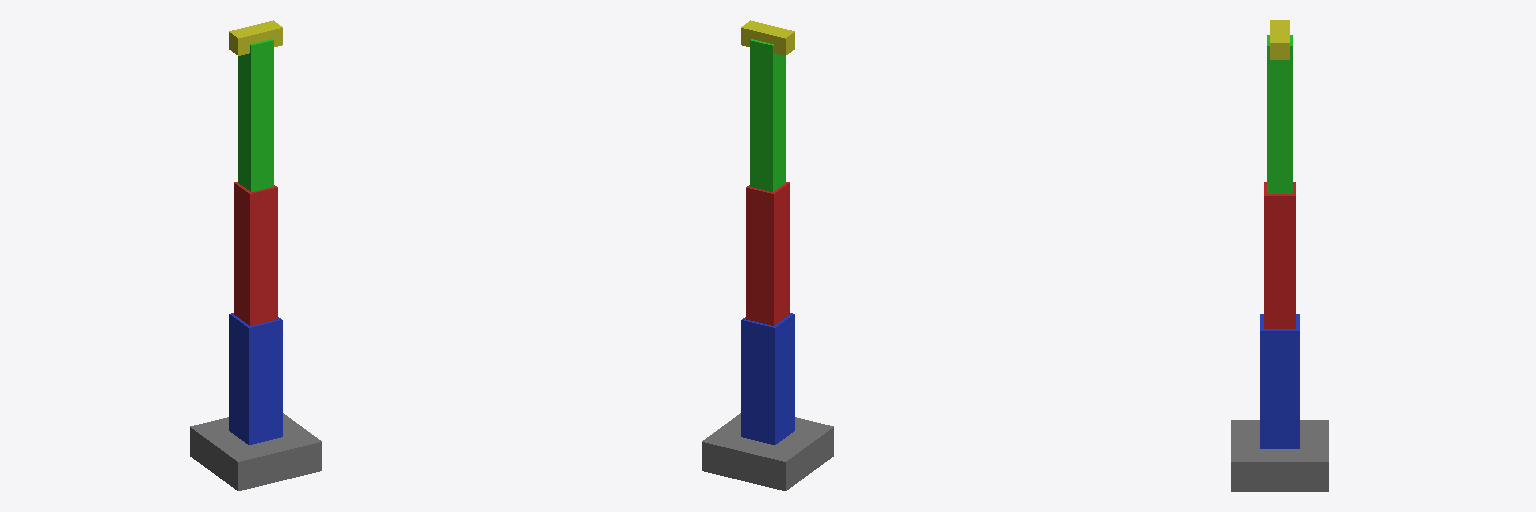
URDF robot description (simple_arm):
<?xml version="1.0"?>
<robot name="simple_arm">
  <link name="base_link">
    <visual>
      <geometry><box size="0.15 0.15 0.05"/></geometry>
      <material name="gray"><color rgba="0.5 0.5 0.5 1"/></material>
    </visual>
  </link>
  <link name="shoulder_link">
    <visual>
      <geometry><box size="0.06 0.06 0.20"/></geometry>
      <origin rpy="0 0 0" xyz="0 0 0.10"/>
      <material name="blue"><color rgba="0.2 0.3 0.8 1"/></material>
    </visual>
  </link>
  <link name="upper_arm_link">
    <visual>
      <geometry><box size="0.05 0.05 0.25"/></geometry>
      <origin rpy="0 0 0" xyz="0 0 0.125"/>
      <material name="red"><color rgba="0.8 0.2 0.2 1"/></material>
    </visual>
  </link>
  <link name="forearm_link">
    <visual>
      <geometry><box size="0.04 0.04 0.25"/></geometry>
      <origin rpy="0 0 0" xyz="0 0 0.125"/>
      <material name="green"><color rgba="0.2 0.8 0.2 1"/></material>
    </visual>
  </link>
  <link name="gripper_link">
    <visual>
      <geometry><box size="0.08 0.03 0.03"/></geometry>
      <origin rpy="0 0 0" xyz="0 0 0"/>
      <material name="yellow"><color rgba="0.8 0.8 0.2 1"/></material>
    </visual>
  </link>
  <joint name="base_joint" type="revolute">
    <parent link="base_link"/><child link="shoulder_link"/>
    <origin rpy="0 0 0" xyz="0 0 0.025"/>
    <axis xyz="0 0 1"/>
    <limit lower="-3.14" upper="3.14" effort="1" velocity="1"/>
  </joint>
  <joint name="shoulder_joint" type="revolute">
    <parent link="shoulder_link"/><child link="upper_arm_link"/>
    <origin rpy="0 0 0" xyz="0 0 0.175"/>
    <axis xyz="0 1 0"/>
    <limit lower="-2.0" upper="2.0" effort="1" velocity="1"/>
  </joint>
  <joint name="elbow_joint" type="revolute">
    <parent link="upper_arm_link"/><child link="forearm_link"/>
    <origin rpy="0 0 0" xyz="0 0 0.25"/>
    <axis xyz="0 1 0"/>
    <limit lower="-2.0" upper="2.0" effort="1" velocity="1"/>
  </joint>
  <joint name="gripper_joint" type="prismatic">
    <parent link="forearm_link"/><child link="gripper_link"/>
    <origin rpy="0 0 0" xyz="0 0 0.25"/>
    <axis xyz="0 1 0"/>
    <limit lower="0.0" upper="0.05" effort="0.5" velocity="0.5"/>
  </joint>
</robot>

--- Render facts (derived) ---
3 views of the same robot in one strip: view 1: azimuth 30°, elevation 25°; view 2: azimuth 150°, elevation 25°; view 3: azimuth 270°, elevation 25° (orthographic).
Robot: simple_arm — 5 links, 4 joints (3 revolute, 1 prismatic); root link base_link; default pose: every joint at zero.
Visible links, largest first — view 1: shoulder_link, base_link, upper_arm_link, forearm_link, gripper_link; view 2: shoulder_link, base_link, upper_arm_link, forearm_link, gripper_link; view 3: base_link, shoulder_link, upper_arm_link, forearm_link, gripper_link.
Link boxes in pixels (<box>): shoulder_link: <box>229,313,282,444</box>; base_link: <box>190,413,321,490</box>; upper_arm_link: <box>234,182,277,325</box>; forearm_link: <box>238,39,273,191</box>; gripper_link: <box>229,20,282,55</box>; shoulder_link: <box>741,313,794,444</box>; base_link: <box>702,413,833,490</box>; upper_arm_link: <box>746,182,789,325</box>; forearm_link: <box>750,39,785,191</box>; gripper_link: <box>741,20,794,55</box>; base_link: <box>1231,420,1328,491</box>; shoulder_link: <box>1260,314,1299,448</box>; upper_arm_link: <box>1264,182,1295,328</box>; forearm_link: <box>1267,35,1292,193</box>; gripper_link: <box>1270,20,1289,59</box>.
Size in the robot's own frame: 0.15 by 0.15 by 0.74 metres.
Geometry: primitives only (box / cylinder / sphere), no mesh files.
